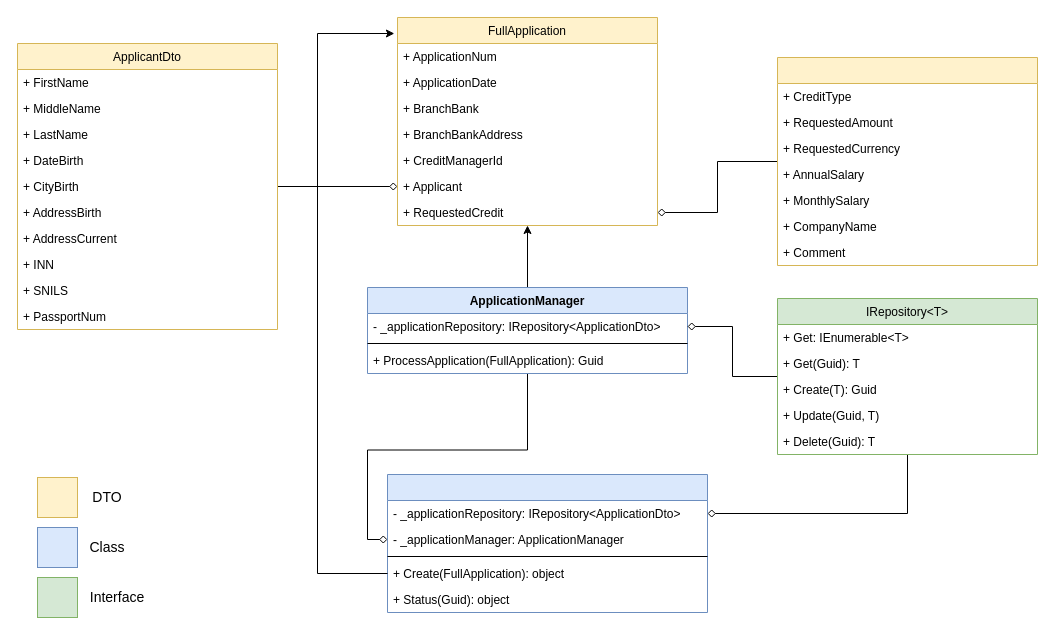
This 1055x635 diagram has some shape labels left out. The shapes that lost their labels are listed below. From the top down, each one's box as (x1, y1, x2, y2) in pixels, then its label:
(776, 56, 1038, 266): RequestedCreditDto
(386, 474, 708, 612): ApplicationController
